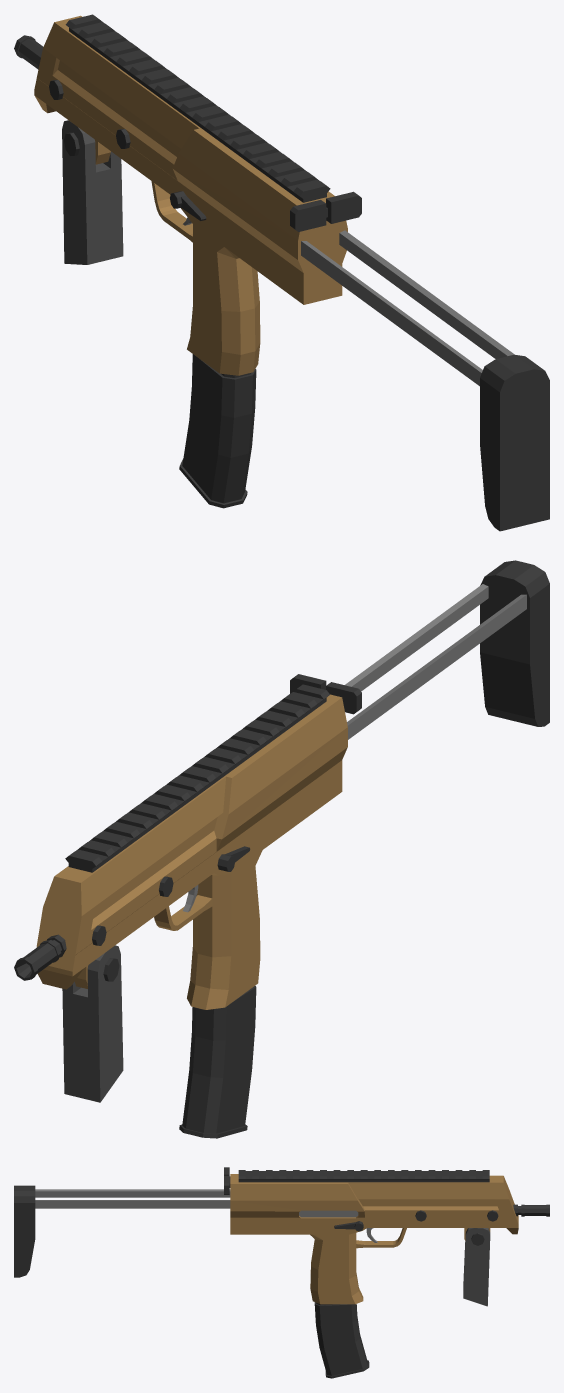
The picture shows the model from 3 angles, top to bottom: view 1: azimuth 30°, elevation 25°; view 2: azimuth 150°, elevation 25°; view 3: azimuth 270°, elevation 25°; orthographic projection. The views are drawn at different scales.
Parts seen in each view (by area): view 1: MP7, Stock, magazin, Grip, Handle; view 2: MP7, Stock, magazin, Grip, Handle; view 3: MP7, Stock, magazin, Grip, Bolt.
Boxes of the visible parts, x1,y1,x2,y2 form: MP7: (14, 14, 347, 375); Stock: (301, 230, 549, 531); magazin: (179, 354, 256, 508); Grip: (62, 120, 123, 264); Handle: (290, 191, 361, 231); MP7: (14, 684, 347, 1009); Stock: (344, 560, 549, 739); magazin: (179, 985, 256, 1138); Grip: (62, 945, 123, 1102); Handle: (290, 674, 361, 714); MP7: (230, 1170, 549, 1304); Stock: (14, 1185, 230, 1277); magazin: (314, 1302, 369, 1378); Grip: (463, 1228, 490, 1306); Bolt: (299, 1210, 358, 1217).
Bounding box in the file's own units: 9.94 × 53.7 × 129.
Materials: 1 (1 with a texture image).
